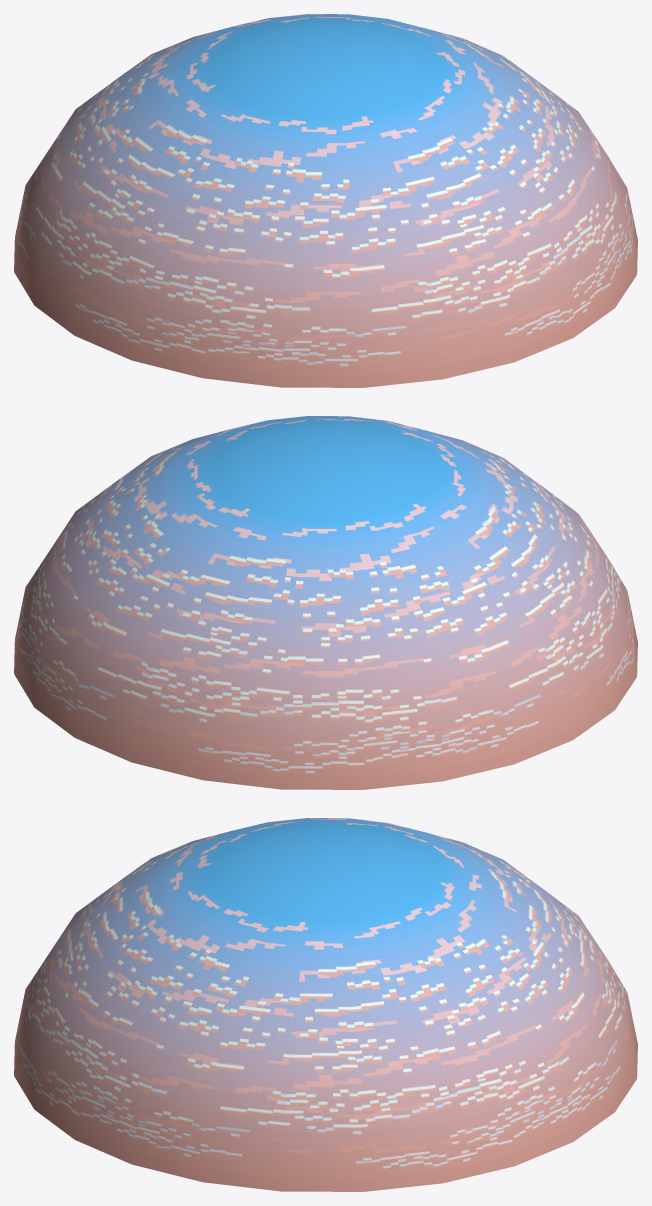
The model's file is sky_02 #478327.fbx.
The picture shows the model from 3 angles, top to bottom: view 1: azimuth 30°, elevation 25°; view 2: azimuth 150°, elevation 25°; view 3: azimuth 270°, elevation 25°; orthographic projection.
Visible parts, largest first — view 1: sky_02; view 2: sky_02; view 3: sky_02.
Boxes of the visible parts, x1,y1,x2,y2 form: sky_02: (14,14,637,387); sky_02: (14,416,637,789); sky_02: (14,818,637,1191).
Bounding box in the file's own units: 2091 × 752 × 2091.
